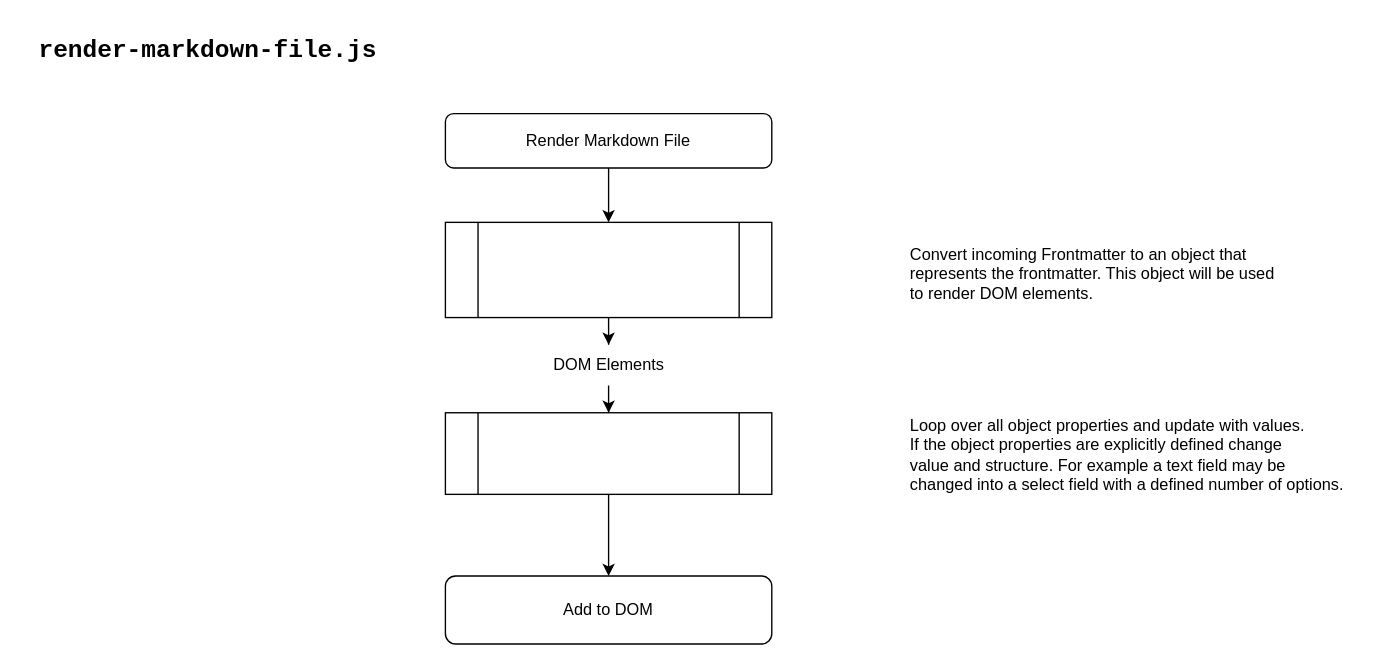
The diagram is 1393 pixels wide and 668 high, and some of its shapes have lost their labels. Each missing label, with the centre of its shape:
"convertToSchemaObject" belongs at point (608, 269).
"Update DOM Elements" belongs at point (608, 452).
